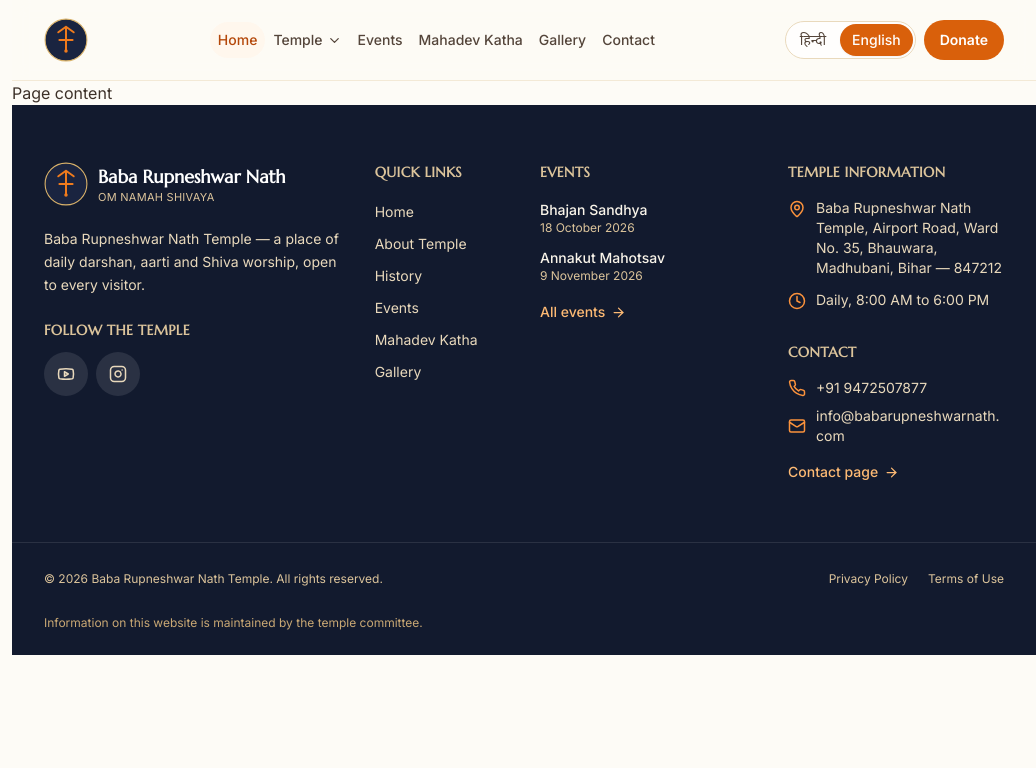
it: Header — desktop Temple disclosure › is a button that toggles its About Temple / History links, not a link to /about
Click the button "Temple": (307, 40) left=265, top=22, right=350, bottom=58
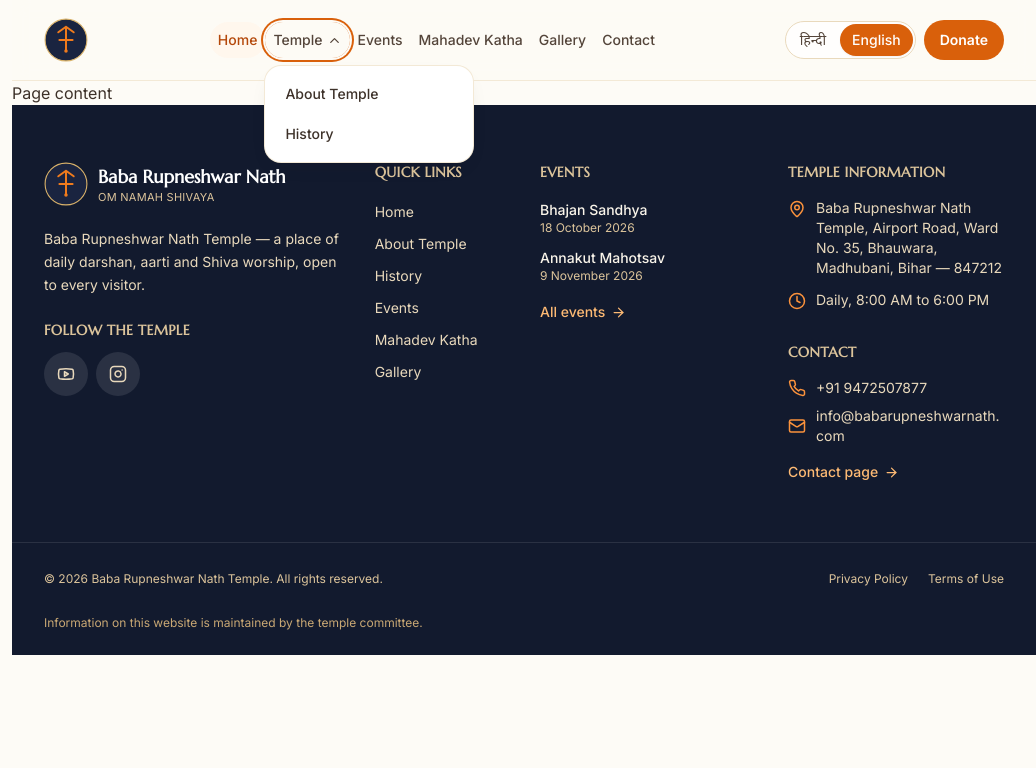
Result: the button "Temple" is expanded at left=265, top=22, right=350, bottom=58
